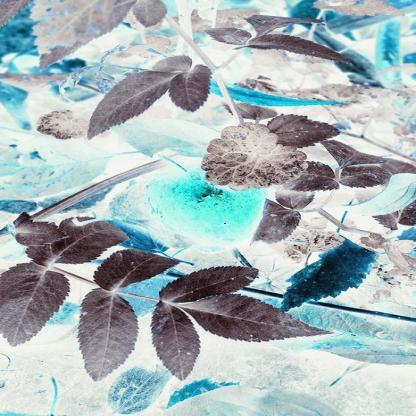Apple leaf: (146, 256, 342, 389), (1, 254, 77, 376), (90, 63, 174, 150), (74, 286, 136, 388), (37, 210, 133, 274), (100, 245, 181, 292), (163, 68, 217, 116)
